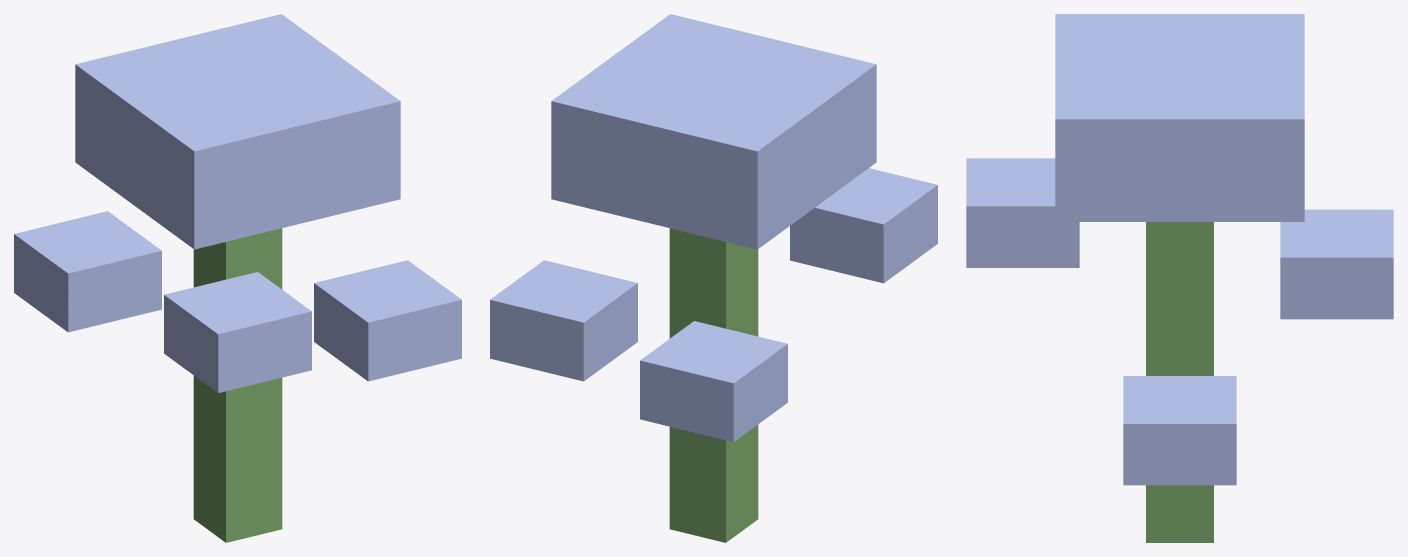
File: Prop_DS_Herb_LatencyLily_S2_V1.glb
The picture shows the model from 3 angles, left to right: view 1: azimuth 30°, elevation 25°; view 2: azimuth 150°, elevation 25°; view 3: azimuth 270°, elevation 25°; orthographic projection. The views are drawn at different scales.
Parts seen in each view (by area): view 1: Cube.004, Cube, Cube.001, Cube.002, Cube.003; view 2: Cube.004, Cube, Cube.001, Cube.002, Cube.003; view 3: Cube.004, Cube, Cube.001, Cube.002, Cube.003.
Boxes of the visible parts, <box> form: Cube.004: <box>75,14,400,249</box>; Cube: <box>193,228,282,542</box>; Cube.001: <box>314,260,461,381</box>; Cube.002: <box>14,211,161,332</box>; Cube.003: <box>164,272,311,392</box>; Cube.004: <box>551,14,876,249</box>; Cube: <box>669,228,758,542</box>; Cube.001: <box>490,260,637,381</box>; Cube.002: <box>640,321,787,442</box>; Cube.003: <box>790,168,937,283</box>; Cube.004: <box>1055,14,1304,221</box>; Cube: <box>1146,222,1213,542</box>; Cube.001: <box>1123,376,1236,485</box>; Cube.002: <box>1280,209,1393,319</box>; Cube.003: <box>966,158,1079,267</box>.
Size of the model in its own units: 0.34 by 0.45 by 0.3771.
